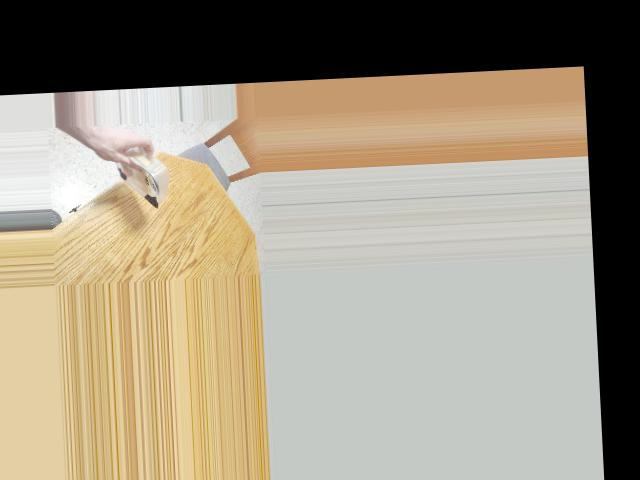cheese: (95, 142, 182, 207)
